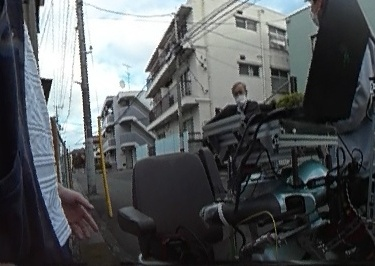person: (231, 82, 261, 115)
